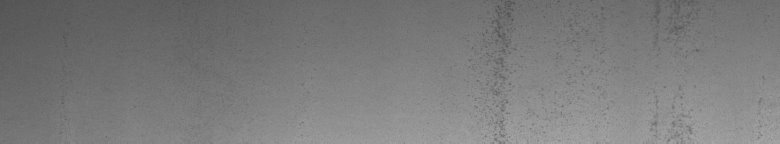ib: (646, 4, 762, 136)
